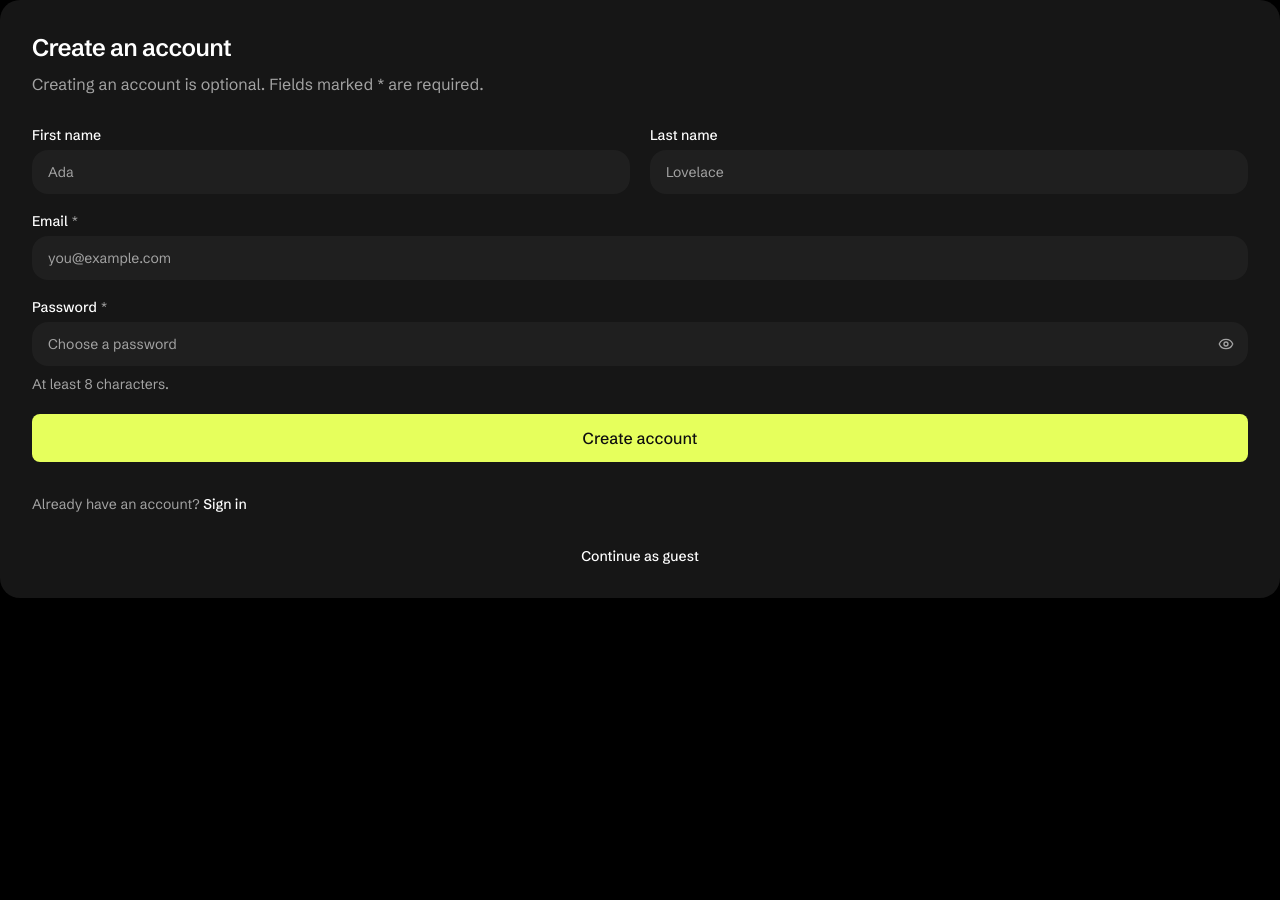
Test case: SignUpForm › describes the password with both the hint and the error
Type "ada@example.com" into the field labelled "Email" at [640, 258], box [32, 236, 1248, 280]
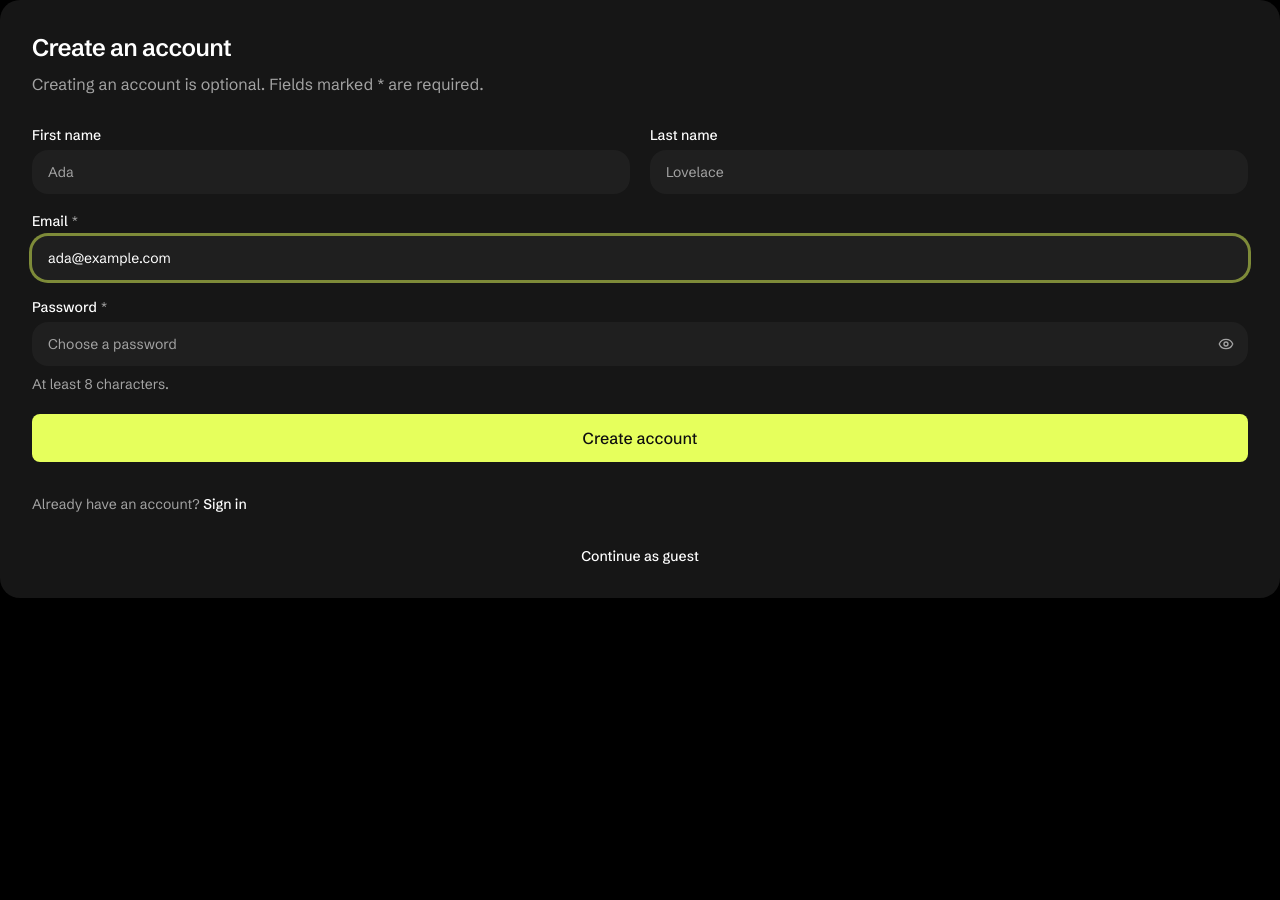
Type "correct horse" into the password field labelled "Password" at [640, 344], box [32, 322, 1248, 366]
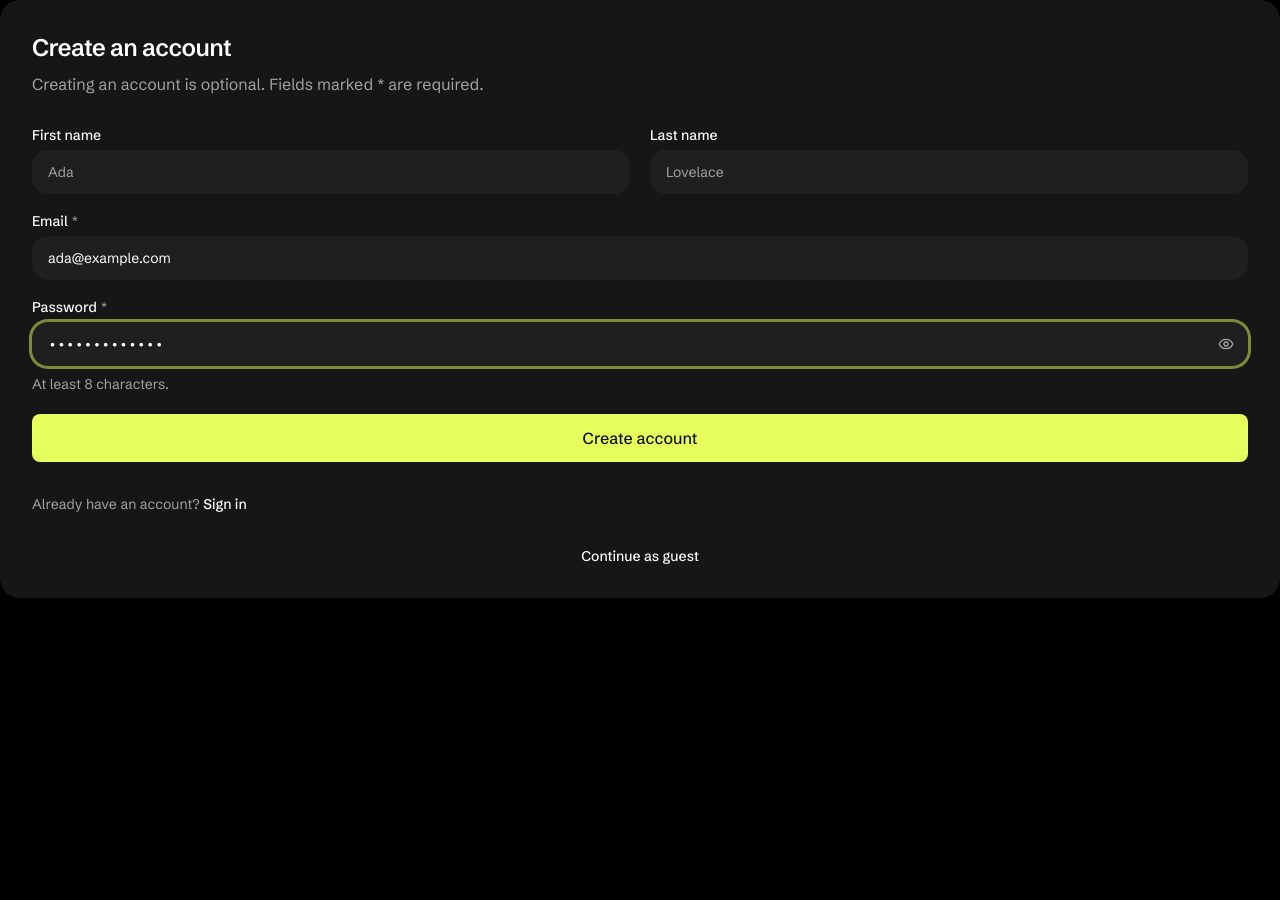
Click the button "Create account" at [640, 438], box [32, 414, 1248, 462]
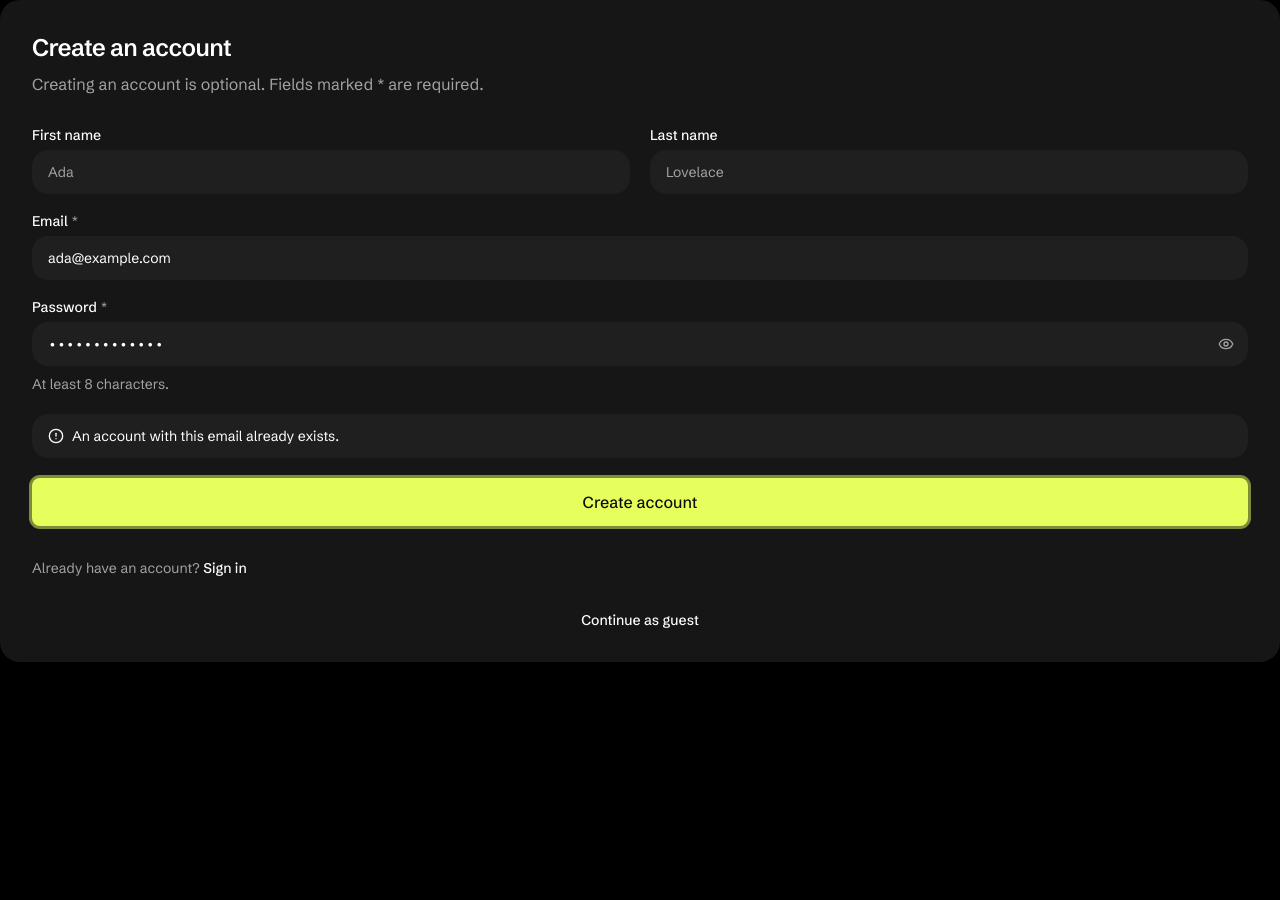
Result: the message "An account with this email already exists." is shown at [32, 414, 1248, 458]
